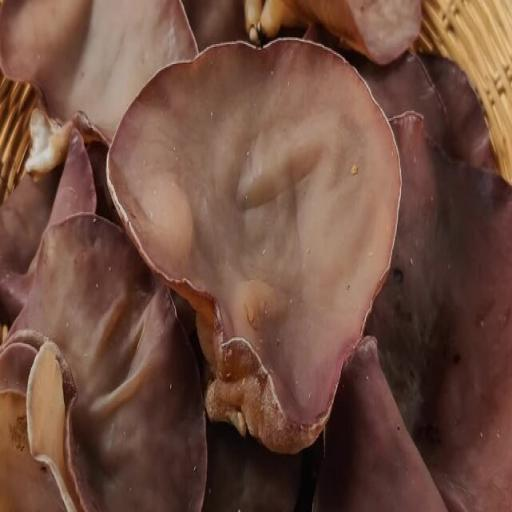Wood Ear Mushroom: (106, 30, 420, 459), (328, 108, 511, 511), (1, 214, 211, 512), (3, 0, 211, 186)
